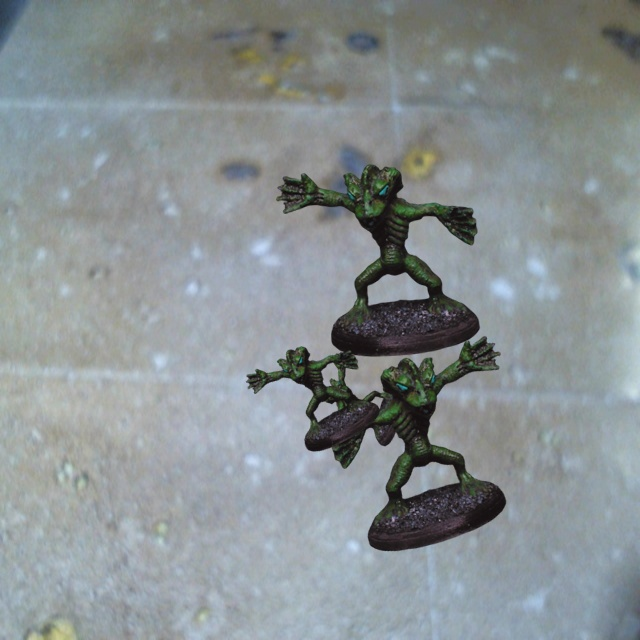pieza_juego: (276, 164, 479, 356), (330, 336, 505, 550), (246, 346, 379, 451), (324, 352, 404, 445)
